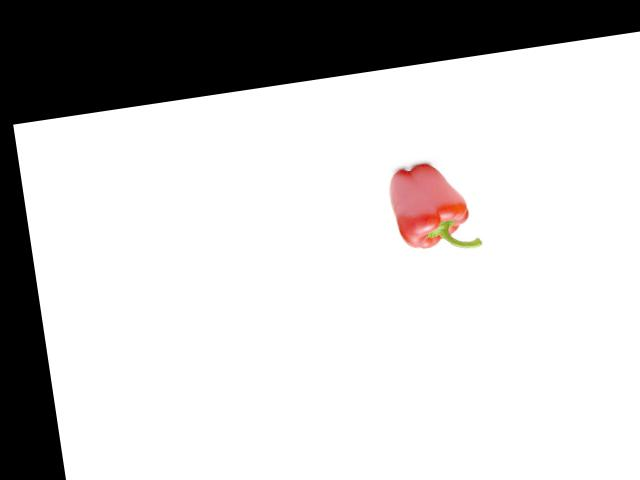bell_pepper: (380, 150, 485, 264)
